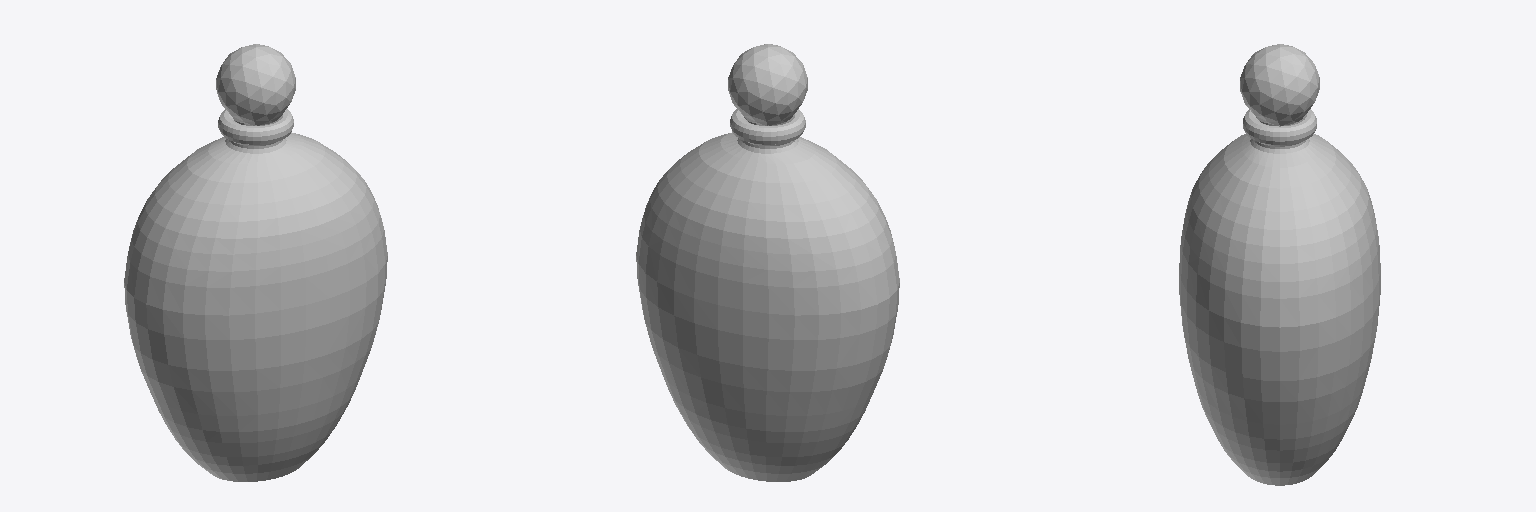
File: bottle_large.obj
3 views of the same model, side by side, from view 1: azimuth 30°, elevation 25°; view 2: azimuth 150°, elevation 25°; view 3: azimuth 270°, elevation 25° (orthographic).
Parts seen in each view (by area): view 1: bottle, cap; view 2: bottle, cap; view 3: bottle, cap.
Boxes of the visible parts, <box> form: bottle: <box>124,109,387,481</box>; cap: <box>216,44,295,125</box>; bottle: <box>636,109,899,481</box>; cap: <box>728,44,807,125</box>; bottle: <box>1179,109,1380,485</box>; cap: <box>1240,44,1319,126</box>.
Bounding box in the file's own units: 2.14 × 3.5 × 1.53.